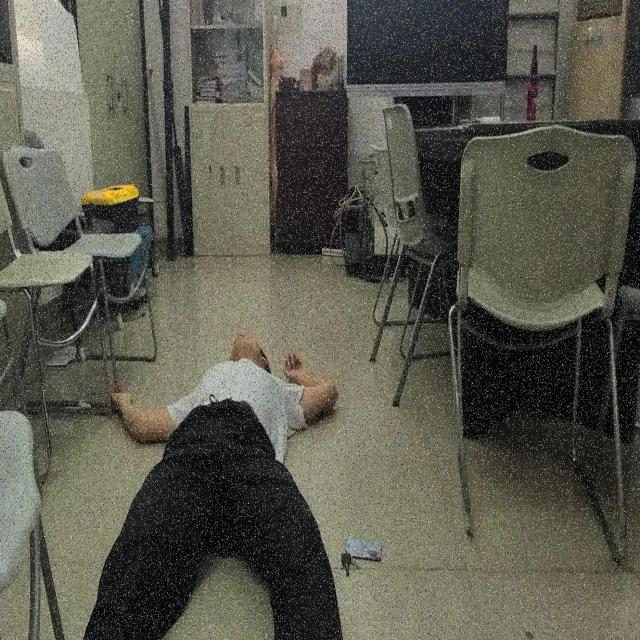fall: (82, 332, 342, 640)
